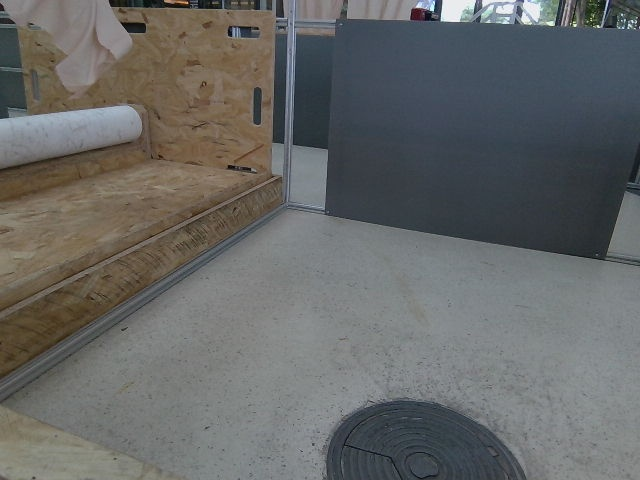curtain: (51, 0, 128, 96)
